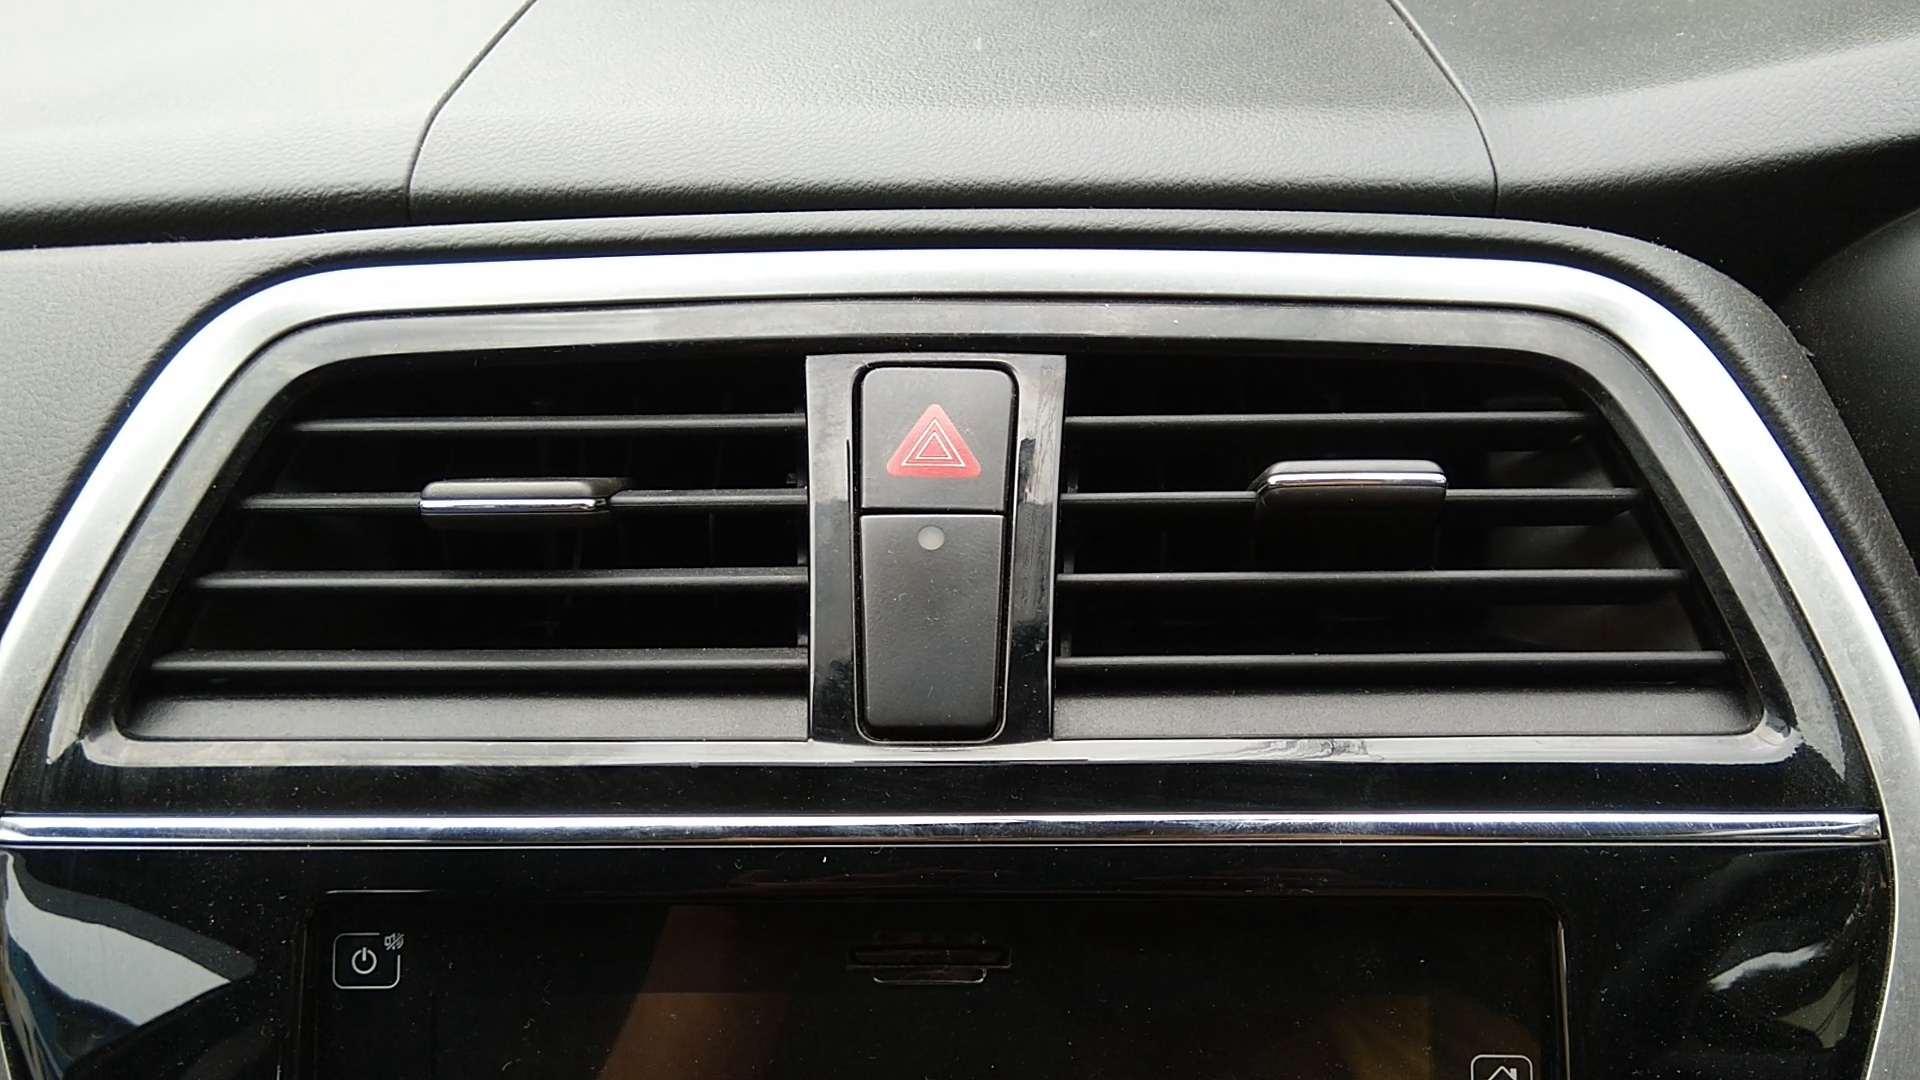parking_button: (876, 382, 996, 491)
